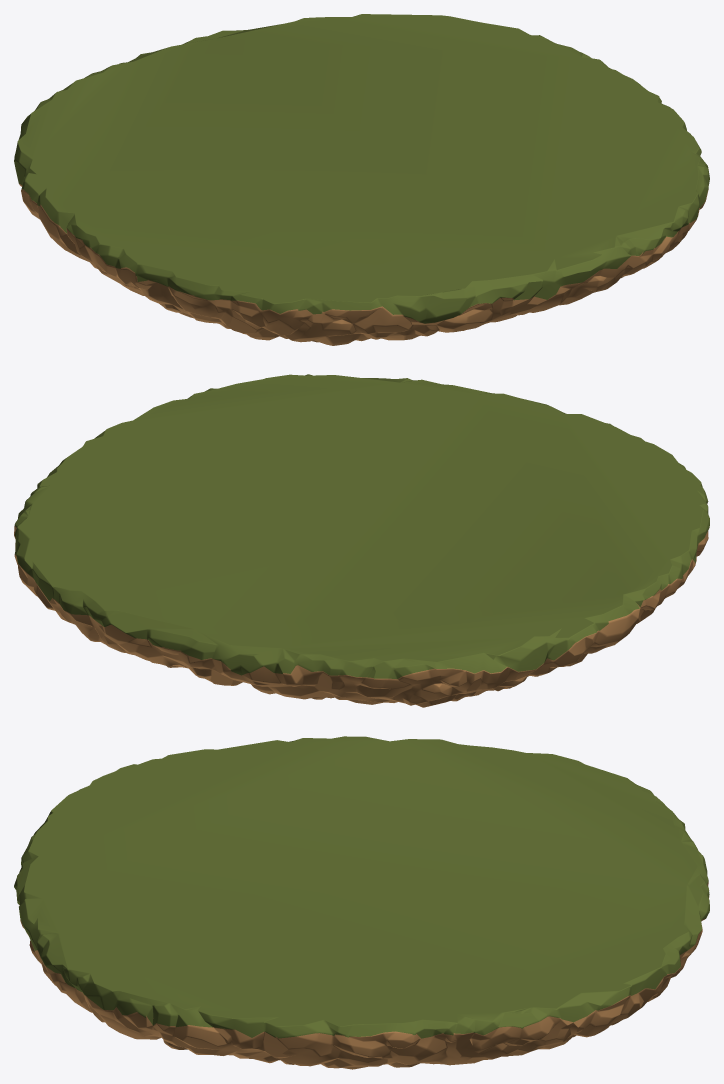
The model's file is island.fbx.
3 views of the same model, one above another, from view 1: azimuth 30°, elevation 25°; view 2: azimuth 150°, elevation 25°; view 3: azimuth 270°, elevation 25° (orthographic). The views are drawn at different scales.
Parts seen in each view (by area): view 1: BigPlatform_7; view 2: BigPlatform_7; view 3: BigPlatform_7.
Part boxes in pixels (x1=…): BigPlatform_7: x1=14, y1=14, x2=709, y2=345; BigPlatform_7: x1=14, y1=374, x2=709, y2=707; BigPlatform_7: x1=14, y1=736, x2=709, y2=1069.
Size of the model in its own units: 4141 by 625 by 4151.
